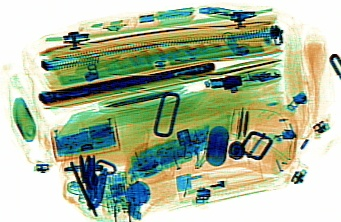lighter: (172, 156, 262, 199)
